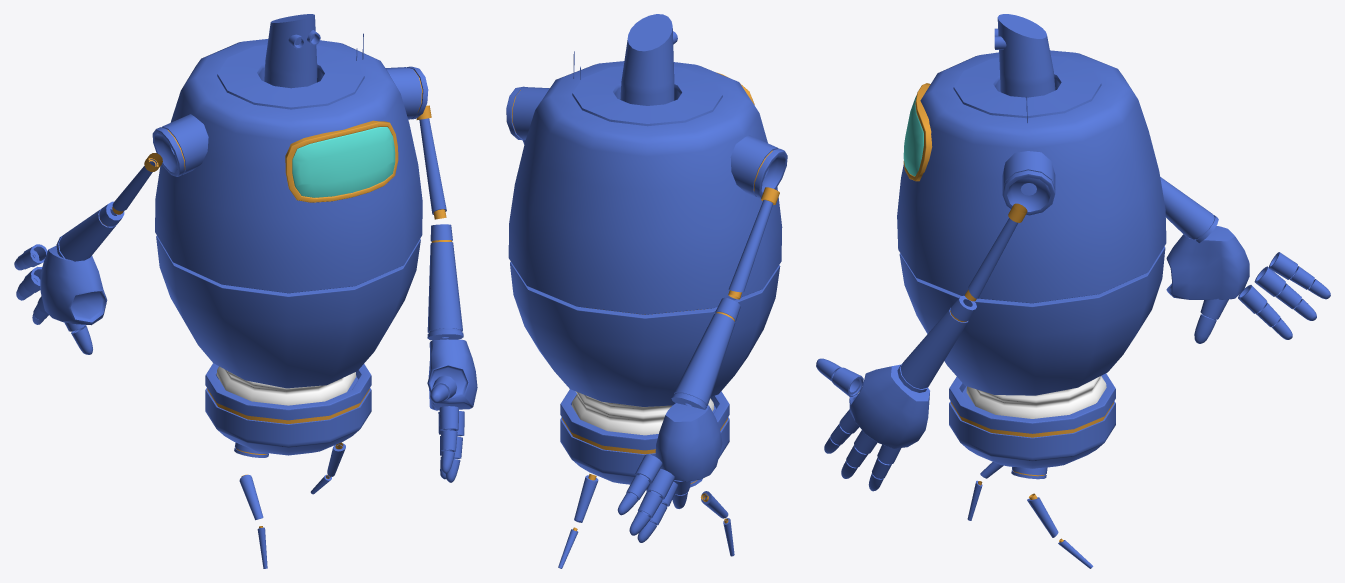
File: Tyrell Rig Animation Test.fbx
3 views of the same model, side by side, from view 1: azimuth 30°, elevation 25°; view 2: azimuth 150°, elevation 25°; view 3: azimuth 270°, elevation 25° (orthographic). The views are drawn at different scales.
Parts seen in each view (by area): view 1: Torso_Geo, Hip_Geo, R_Hand_Geo, Head_Geo_Grp, L_Lower_Arm_Geo, L_Hand_Geo, Spine_Geo, R_Lower_Arm_Geo, L_Upper_Arm_Geo, R_Upper_Arm_Geo; view 2: Torso_Geo, Hip_Geo, Head_Geo_Grp, R_Hand_Geo, R_Lower_Arm_Geo, Spine_Geo, R_Upper_Arm_Geo, L_Front_Thigh_Geo, R_Finger_03_Piece_01_Geo, R_Finger_04_Piece_01_Geo, R_Finger_03_Piece_02_Geo, R_Front_Thigh_Geo; view 3: Torso_Geo, Hip_Geo, R_Hand_Geo, L_Hand_Geo, Head_Geo_Grp, Spine_Geo, L_Lower_Arm_Geo, R_Lower_Arm_Geo, L_Upper_Arm_Geo, L_Finger_01_Piece_01_Geo.
Boxes of the visible parts, x1=… form: Torso_Geo: x1=152, y1=33, x2=428, y2=388; Hip_Geo: x1=205, y1=363, x2=371, y2=457; R_Hand_Geo: x1=40, y1=245, x2=107, y2=325; Head_Geo_Grp: x1=264, y1=14, x2=320, y2=88; L_Lower_Arm_Geo: x1=427, y1=224, x2=463, y2=340; L_Hand_Geo: x1=427, y1=339, x2=477, y2=410; Spine_Geo: x1=216, y1=366, x2=356, y2=405; R_Lower_Arm_Geo: x1=56, y1=201, x2=124, y2=261; L_Upper_Arm_Geo: x1=416, y1=105, x2=446, y2=219; R_Upper_Arm_Geo: x1=112, y1=153, x2=162, y2=214; Torso_Geo: x1=506, y1=51, x2=787, y2=406; Hip_Geo: x1=560, y1=389, x2=729, y2=487; Head_Geo_Grp: x1=620, y1=14, x2=677, y2=105; R_Hand_Geo: x1=655, y1=403, x2=722, y2=481; R_Lower_Arm_Geo: x1=671, y1=297, x2=740, y2=409; Spine_Geo: x1=571, y1=391, x2=714, y2=435; R_Upper_Arm_Geo: x1=728, y1=187, x2=779, y2=299; L_Front_Thigh_Geo: x1=574, y1=474, x2=598, y2=522; R_Finger_03_Piece_01_Geo: x1=646, y1=468, x2=674, y2=499; R_Finger_04_Piece_01_Geo: x1=635, y1=454, x2=662, y2=483; R_Finger_03_Piece_02_Geo: x1=638, y1=491, x2=662, y2=518; R_Front_Thigh_Geo: x1=701, y1=491, x2=728, y2=518; Torso_Geo: x1=897, y1=50, x2=1166, y2=395; Hip_Geo: x1=949, y1=373, x2=1115, y2=479; R_Hand_Geo: x1=1166, y1=226, x2=1249, y2=299; L_Hand_Geo: x1=849, y1=364, x2=929, y2=448; Head_Geo_Grp: x1=994, y1=14, x2=1055, y2=97; Spine_Geo: x1=966, y1=376, x2=1106, y2=418; L_Lower_Arm_Geo: x1=897, y1=295, x2=976, y2=392; R_Lower_Arm_Geo: x1=1160, y1=177, x2=1218, y2=242; L_Upper_Arm_Geo: x1=965, y1=203, x2=1027, y2=301; L_Finger_01_Piece_01_Geo: x1=832, y1=367, x2=863, y2=396.
Bounding box in the file's own units: 8.17 × 14.23 × 12.53.
